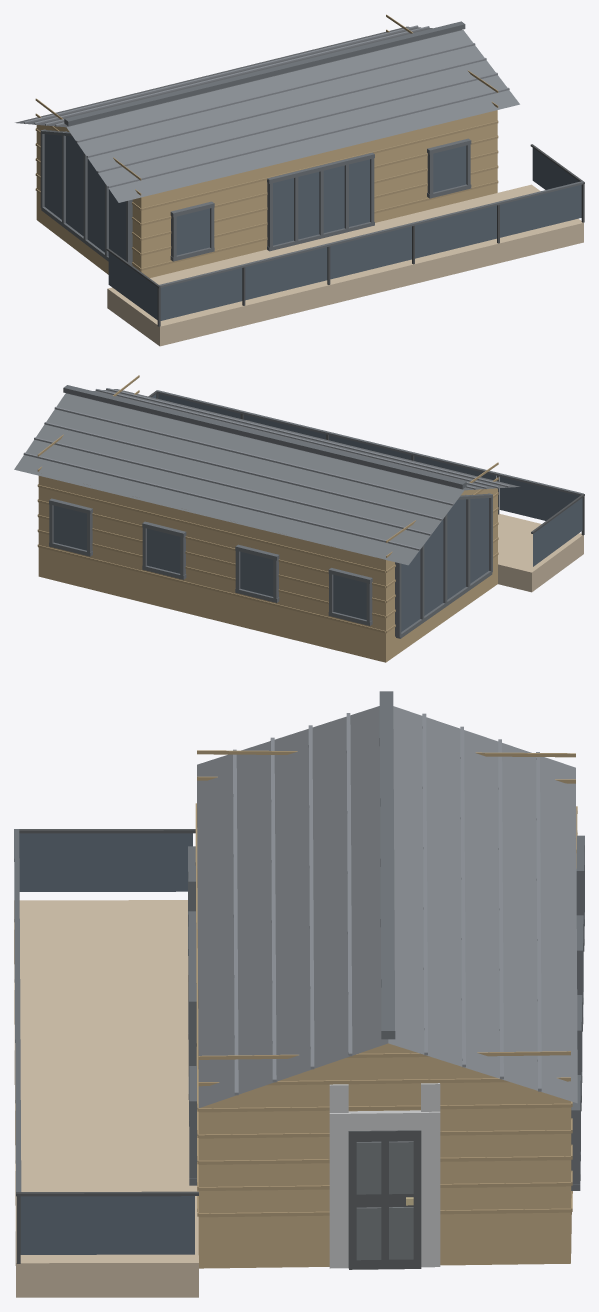
3 views of the same model, one above another, from view 1: azimuth 30°, elevation 25°; view 2: azimuth 150°, elevation 25°; view 3: azimuth 270°, elevation 25° (orthographic). The views are drawn at different scales.
Parts seen in each view (by area): view 1: slate, door_wood, larch, slate_dk, slate_lt, window_glass_014, door_wood_p, window_glass_001, window_glass_002, window_glass_004, window_glass_003, window_glass_005 (+9 smaller); view 2: slate, door_wood, slate_dk, slate_lt, window_glass_014, door_wood_p, larch, window_glass_001, window_glass_006, window_glass_015, window_glass_016, window_glass_017 (+6 smaller); view 3: slate, larch, door_wood, slate_dk, slate_lt, door_wood_p, window_glass_007, window_glass_006, stone_band, door_dark_p, door_dark, pipe.
Boxes of the visible parts, x1,y1,x2,y2 form: slate: (15, 26, 519, 202); door_wood: (36, 110, 497, 277); larch: (107, 184, 583, 346); slate_dk: (40, 21, 583, 287); slate_lt: (24, 25, 509, 187); window_glass_014: (44, 134, 126, 260); door_wood_p: (35, 14, 498, 270); window_glass_001: (160, 268, 242, 320); window_glass_002: (245, 247, 327, 300); window_glass_004: (415, 205, 496, 258); window_glass_003: (330, 226, 411, 279); window_glass_005: (500, 184, 581, 237); slate: (14, 389, 519, 565); door_wood: (38, 476, 497, 662); slate_dk: (49, 385, 583, 638); slate_lt: (23, 388, 509, 550); window_glass_014: (401, 498, 488, 631); door_wood_p: (37, 375, 498, 633); larch: (498, 514, 583, 592); window_glass_001: (499, 476, 579, 520); window_glass_006: (533, 498, 582, 566); window_glass_015: (53, 505, 86, 550); window_glass_016: (147, 528, 180, 573); window_glass_017: (240, 552, 273, 596); slate: (197, 706, 577, 1107); larch: (14, 900, 198, 1297); door_wood: (197, 808, 571, 1268); slate_dk: (14, 691, 584, 1192); slate_lt: (233, 713, 541, 1095); door_wood_p: (195, 750, 577, 1217); window_glass_007: (20, 1196, 194, 1254); window_glass_006: (19, 833, 192, 891); stone_band: (329, 1083, 440, 1268); door_dark_p: (356, 1141, 413, 1260); door_dark: (348, 1130, 421, 1269); pipe: (16, 829, 198, 1263).
Bounding box in the file's own units: 11.33 × 3.69 × 7.49.
